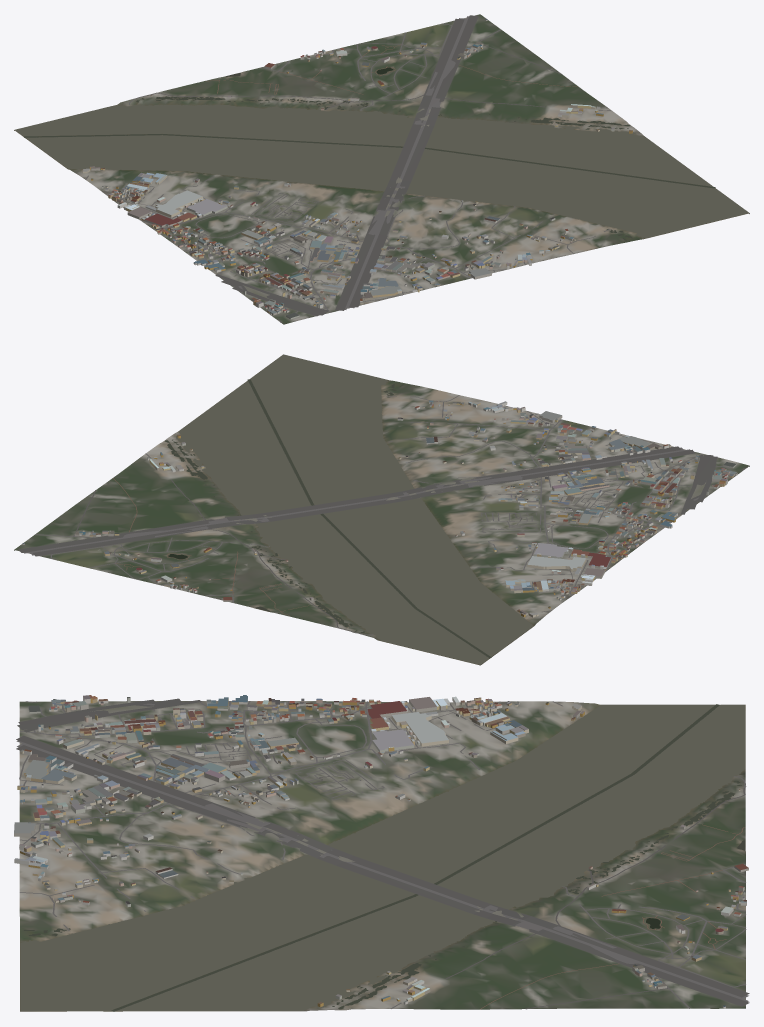
3 renders of one model, top to bottom at view 1: azimuth 30°, elevation 25°; view 2: azimuth 150°, elevation 25°; view 3: azimuth 270°, elevation 25°, orthographic. The views are drawn at different scales.
Visible parts, largest first — view 1: ground, water, buildings, roads; view 2: ground, water, buildings, roads; view 3: ground, water, buildings, roads.
Boxes of the visible parts, left/top/right/bottom form: ground: left=14, top=14, right=749, bottom=324; water: left=15, top=67, right=748, bottom=241; buildings: left=82, top=19, right=632, bottom=319; roads: left=85, top=15, right=611, bottom=322; ground: left=14, top=356, right=749, bottom=665; water: left=165, top=354, right=533, bottom=664; buildings: left=22, top=400, right=737, bottom=628; roads: left=18, top=395, right=747, bottom=634; ground: left=19, top=701, right=745, bottom=1011; water: left=20, top=704, right=745, bottom=1011; buildings: left=14, top=695, right=748, bottom=1008; roads: left=16, top=698, right=749, bottom=1009.
Size of the model in its own units: 1421 by 24.44 by 1421.
